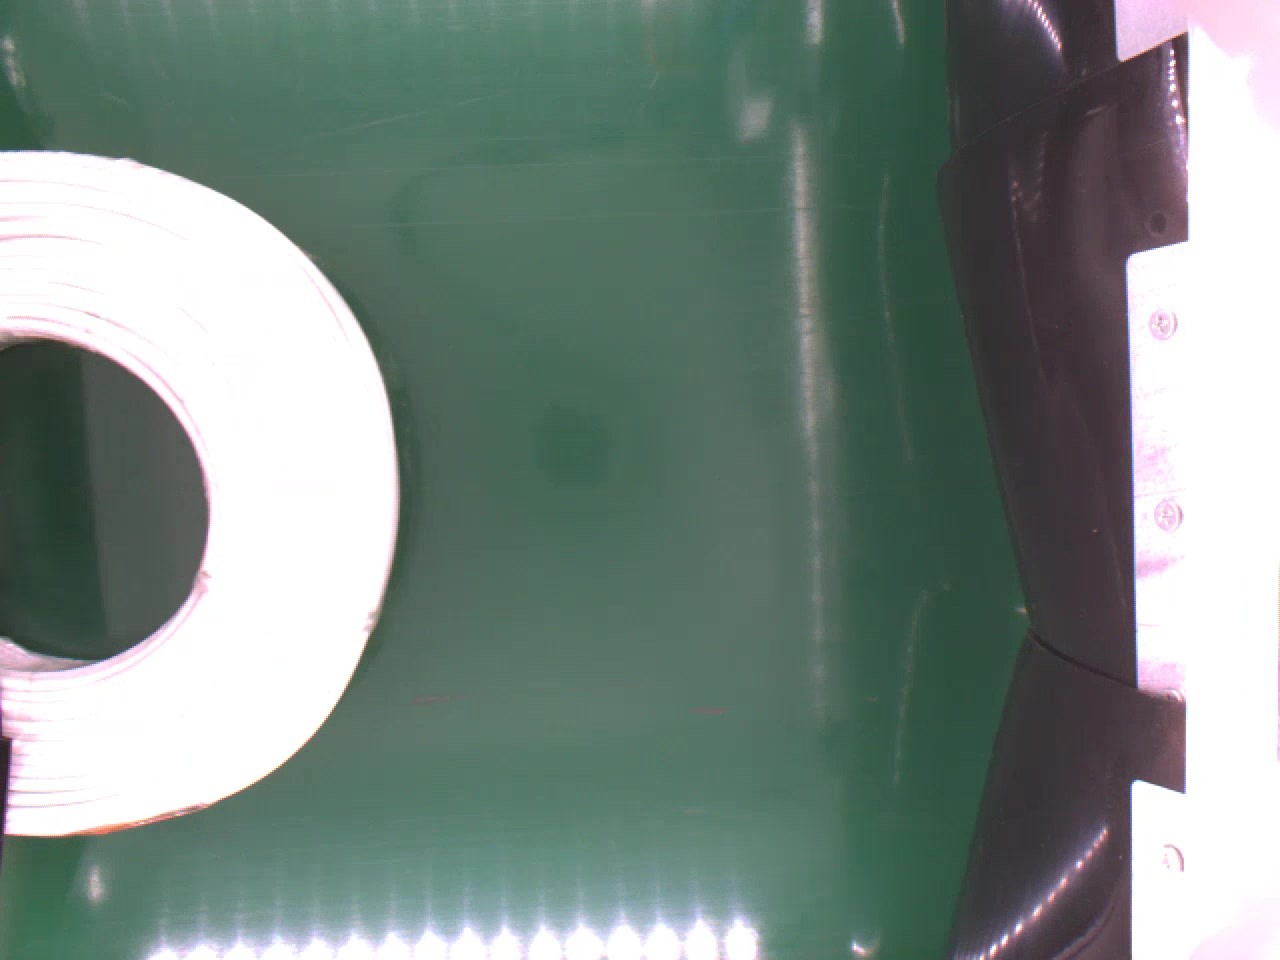white: (0, 144, 400, 835)
